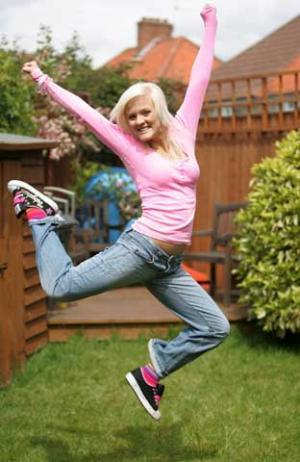person: (8, 8, 230, 424)
